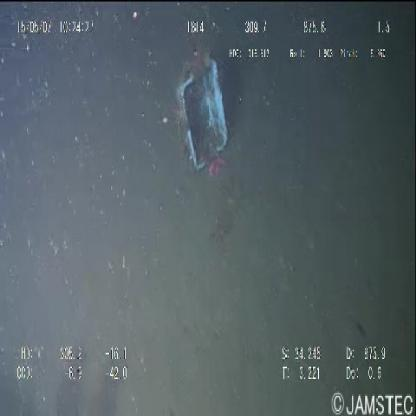Rác: (179, 60, 229, 174)
